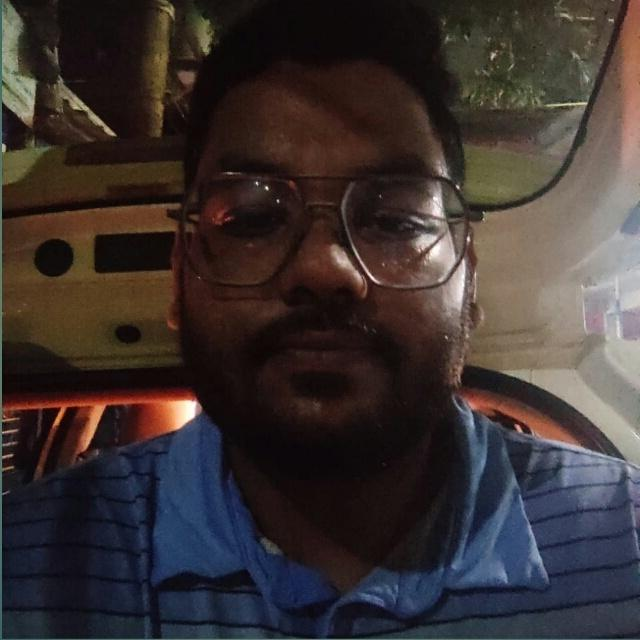Natural: (135, 70, 482, 523)
